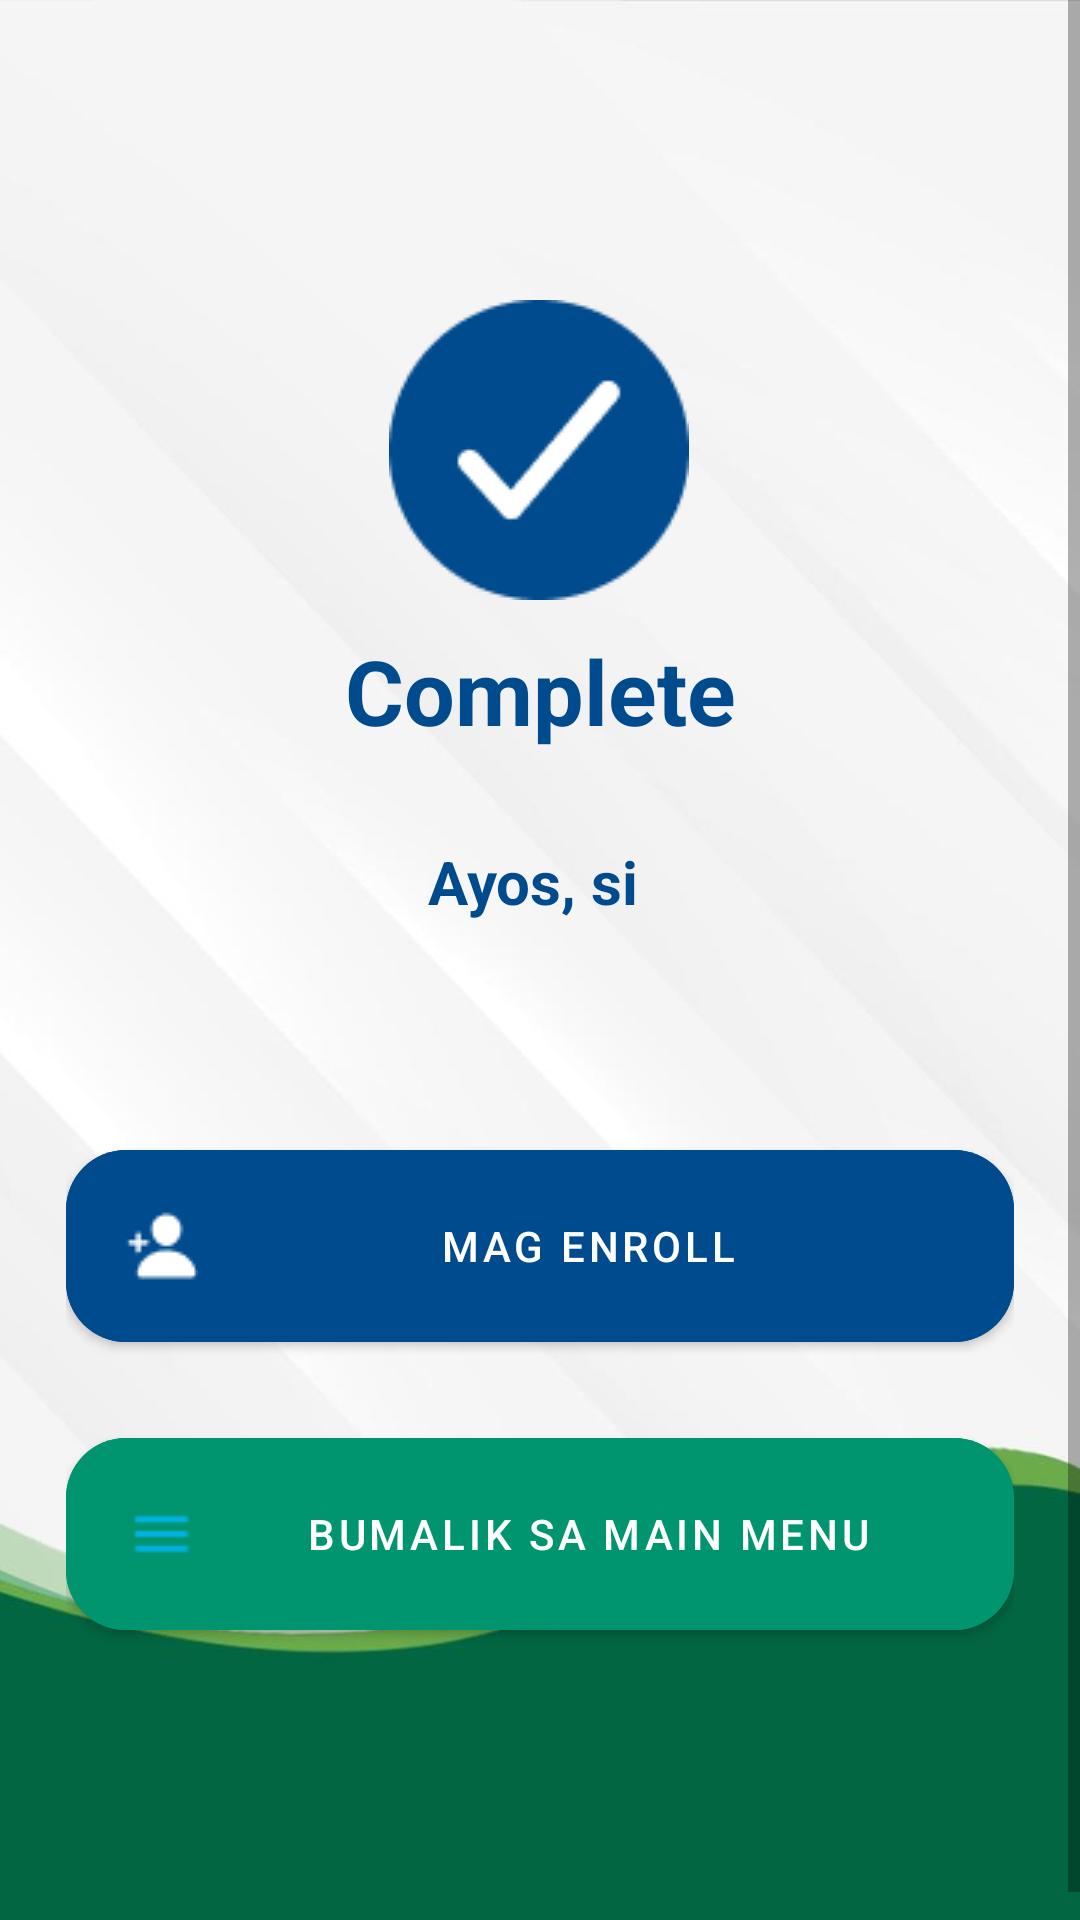

Icons on this 1080x1920 Android screen, each with the point to tap as point (x, y):
checkmark circle: point (539, 450)
